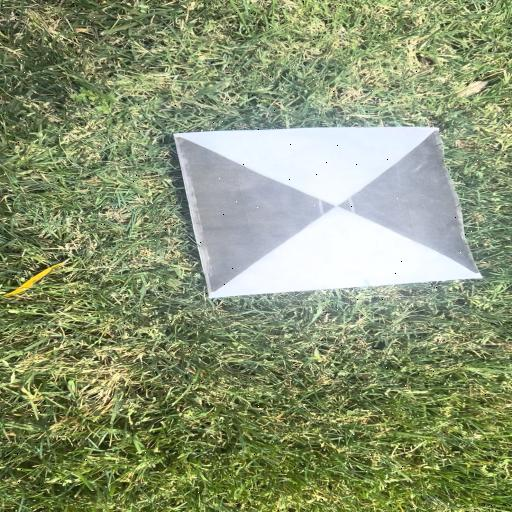target: (172, 127, 480, 297)
